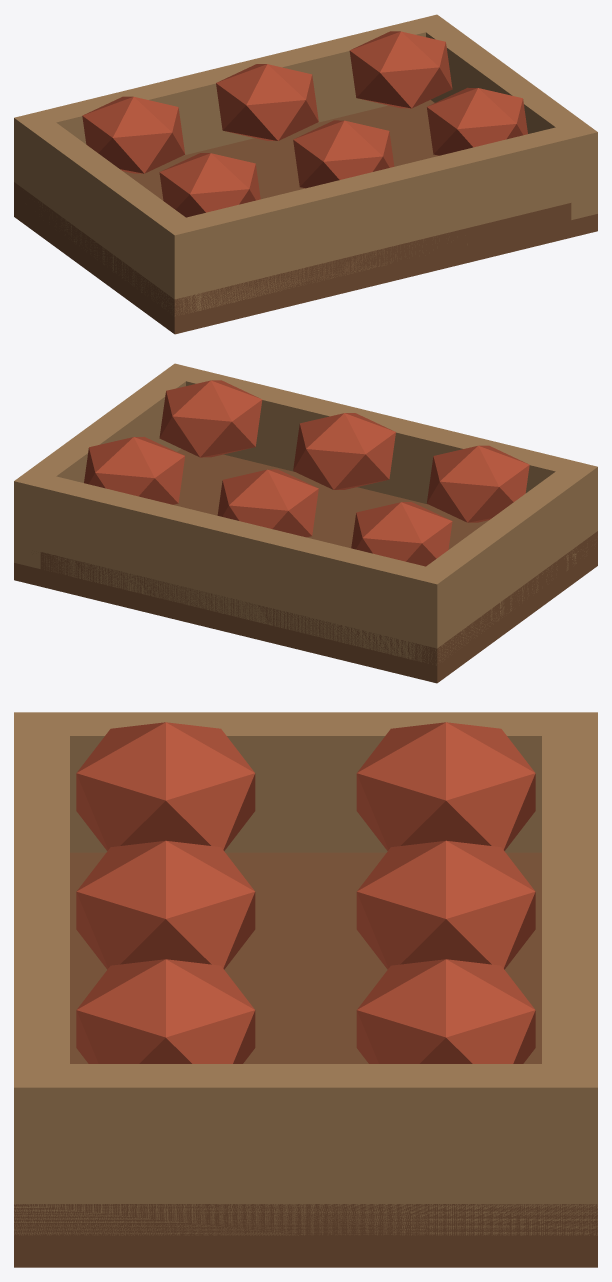
Rendered from set_tomato_tray.glb.
The picture shows the model from 3 angles, top to bottom: view 1: azimuth 30°, elevation 25°; view 2: azimuth 150°, elevation 25°; view 3: azimuth 270°, elevation 25°; orthographic projection. The views are drawn at different scales.
Visible parts, largest first — view 1: set_tomato_tray; view 2: set_tomato_tray; view 3: set_tomato_tray.
Boxes of the visible parts, left/top/right/bottom form: set_tomato_tray: left=14, top=14, right=597, bottom=334; set_tomato_tray: left=14, top=363, right=597, bottom=683; set_tomato_tray: left=14, top=712, right=597, bottom=1267.
Size of the model in its own units: 0.38 by 0.113 by 0.25.
